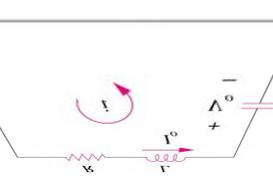inductor: (135, 148, 191, 164)
